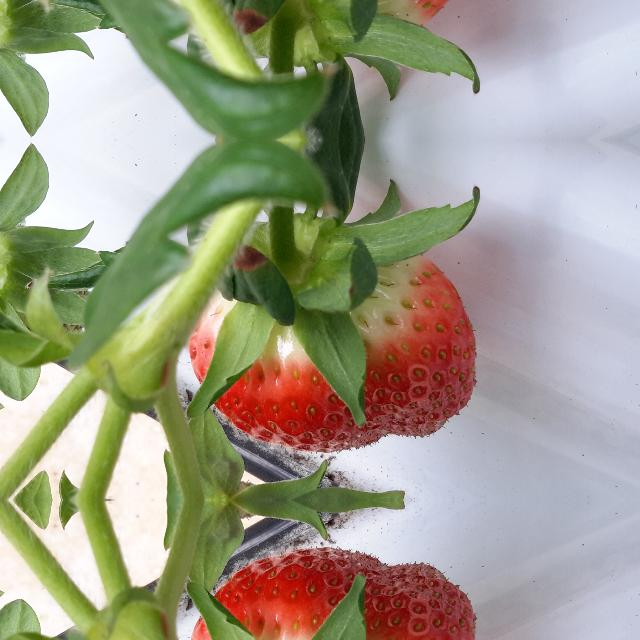Health_100: (213, 253, 477, 454), (213, 545, 477, 640)
